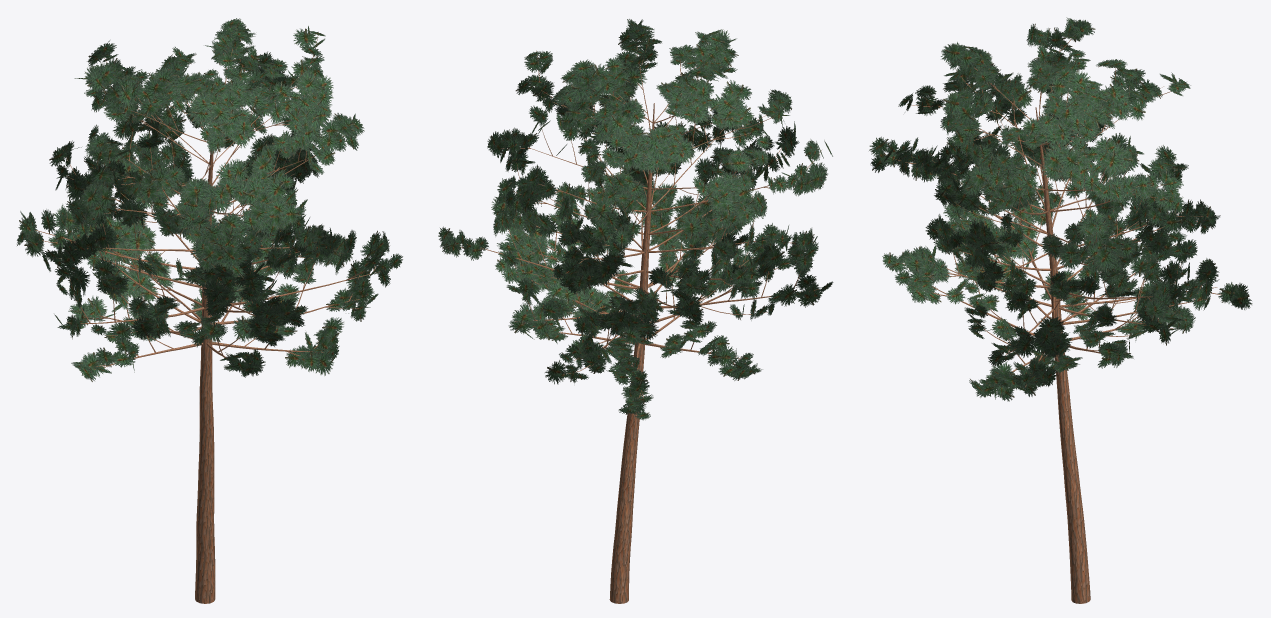
The model's file is tree-pine-a.glb.
3 views of the same model, side by side, from view 1: azimuth 30°, elevation 25°; view 2: azimuth 150°, elevation 25°; view 3: azimuth 270°, elevation 25° (orthographic). The views are drawn at different scales.
Parts seen in each view (by area): view 1: leaves, bark; view 2: leaves, bark; view 3: leaves, bark.
Part boxes in pixels (<box>): leaves: <box>17,18,402,381</box>; bark: <box>35,29,385,603</box>; leaves: <box>438,19,833,420</box>; bark: <box>461,37,821,603</box>; leaves: <box>869,17,1252,401</box>; bark: <box>884,35,1221,603</box>.
Bounding box in the file's own units: 13.46 × 21.11 × 13.81.
Materials: 2 (2 with a texture image).
